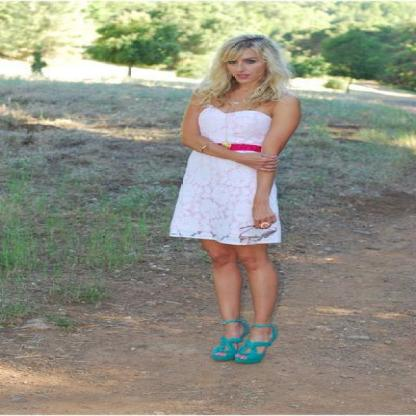dress: (170, 108, 280, 244)
shoe: (212, 314, 282, 363)
